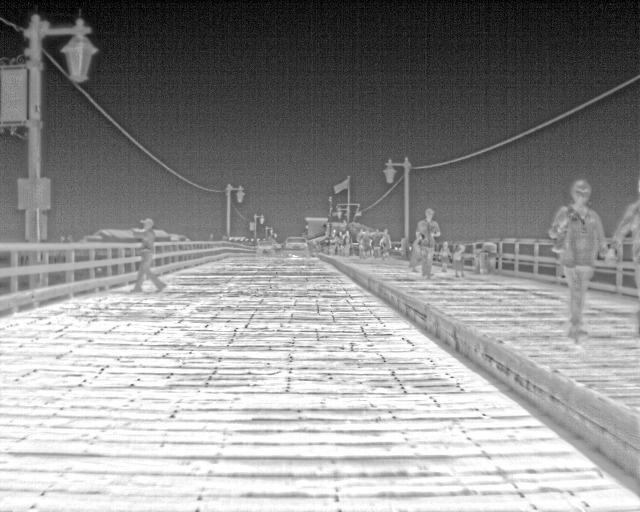bicycle: (284, 235, 311, 258), (254, 238, 276, 257)
empty: (549, 180, 611, 339), (606, 198, 637, 289), (126, 219, 165, 291), (413, 207, 445, 276), (449, 242, 469, 276), (438, 237, 451, 271), (379, 228, 393, 259), (369, 226, 383, 257), (340, 228, 353, 256), (355, 227, 367, 257), (326, 230, 339, 254)
